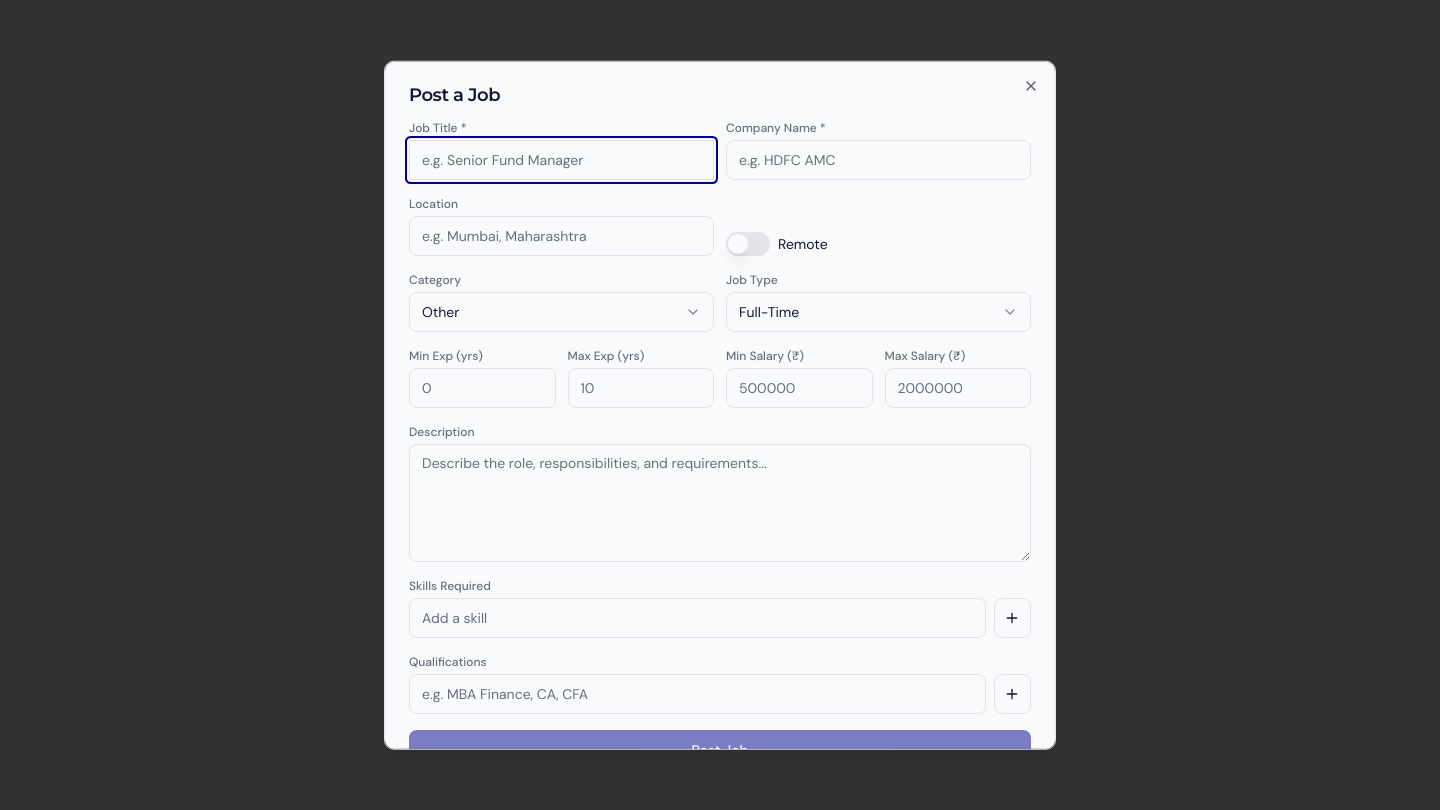
Test: PostJobDialog Integration › adds qualifications
The width and height of the screenshot is (1440, 810).
Type "CFA Level 3" into the field with placeholder "e.g. MBA Finance, CA, CFA".
click(697, 694); type("CFA Level 3")  # box [409,674,986,714]
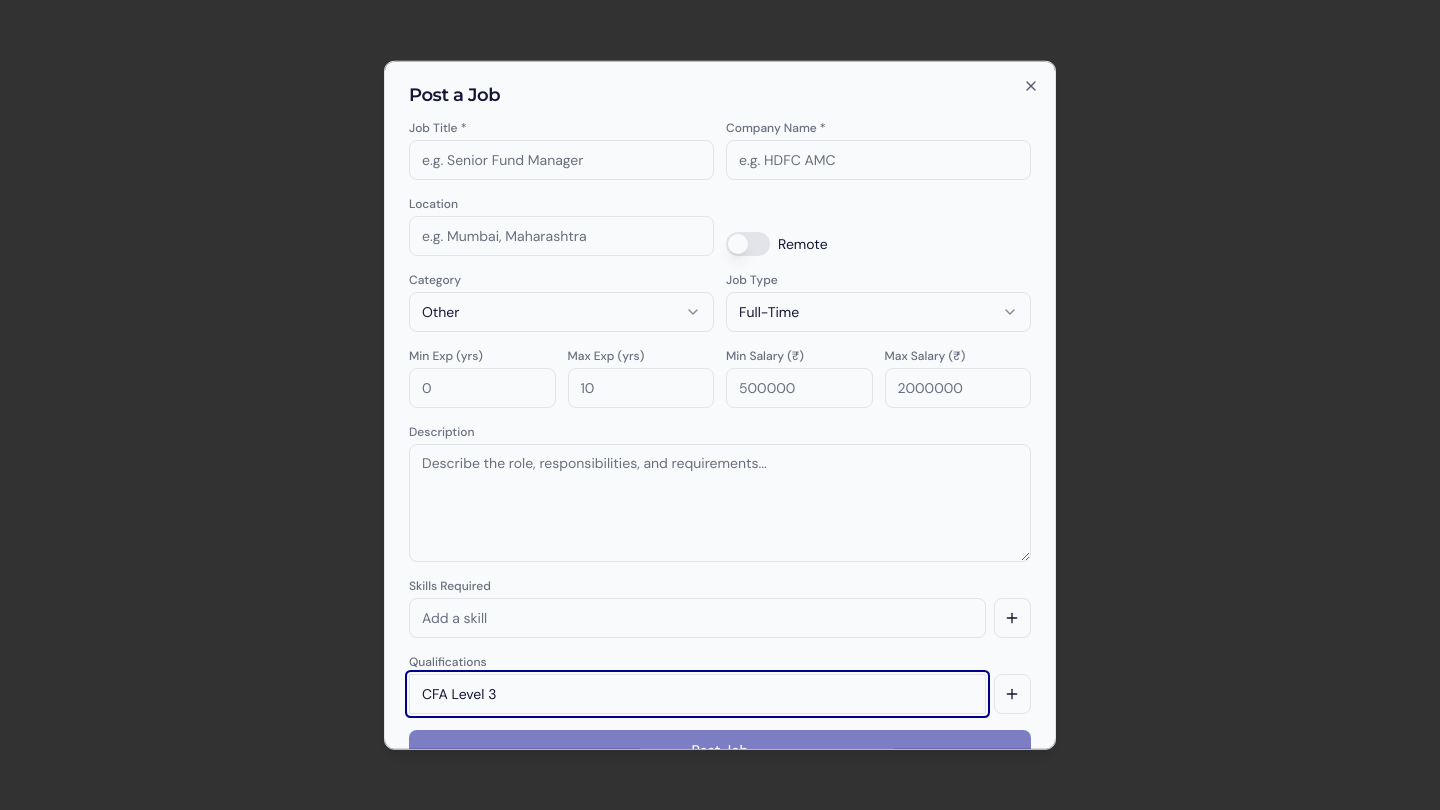
Press Enter
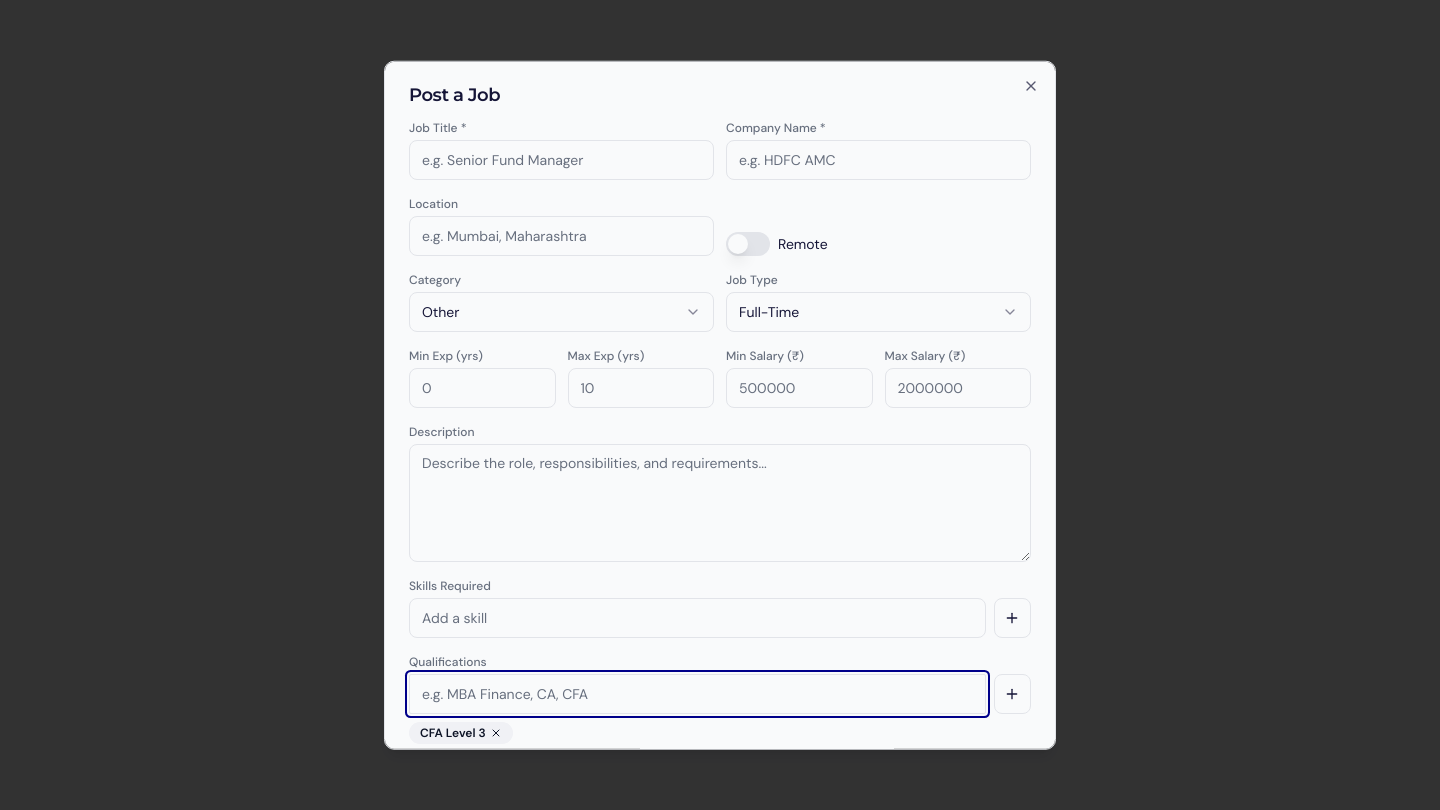
Expected: the text "CFA Level 3" is shown, [409,722,513,744]
